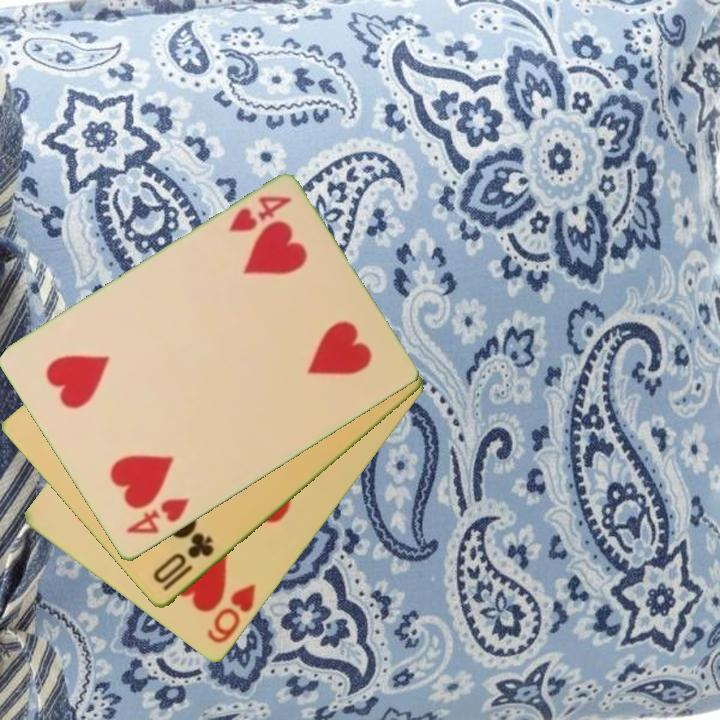10c: (149, 530, 218, 595)
4h: (122, 494, 192, 538), (225, 193, 295, 236)
6h: (203, 581, 259, 647)
